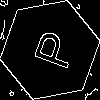P: (25, 25, 77, 72)
